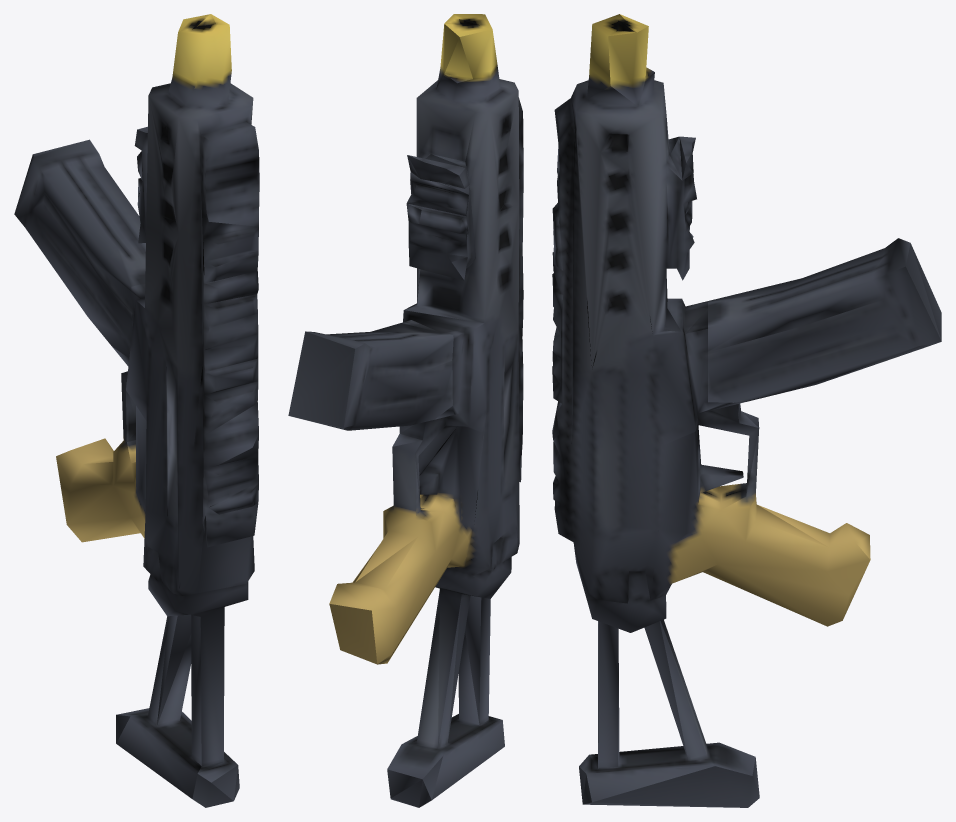
Rendered from hornet.glb.
3 renders of one model, left to right at view 1: azimuth 30°, elevation 25°; view 2: azimuth 150°, elevation 25°; view 3: azimuth 270°, elevation 25°, orthographic. The views are drawn at different scales.
Parts seen in each view (by area): view 1: hornet, part_mag; view 2: hornet, part_mag; view 3: hornet, part_mag.
Part boxes in pixels (box(x1,y1,x2,y2)): hornet: box(56, 14, 259, 807); part_mag: box(14, 139, 145, 357); hornet: box(329, 14, 523, 807); part_mag: box(288, 323, 453, 430); hornet: box(552, 14, 870, 807); part_mag: box(708, 238, 941, 402).
Bounding box in the file's own units: 0.0715 × 0.5779 × 0.2634.
Materials: 1 (1 with a texture image).
